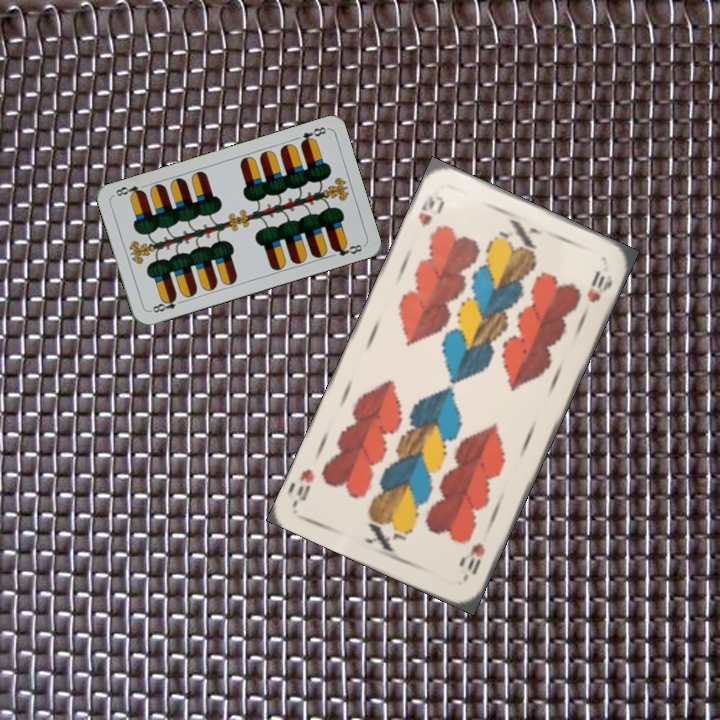E8: (146, 292, 186, 315), (296, 123, 330, 148)
H10: (414, 186, 447, 230), (463, 539, 488, 578)
